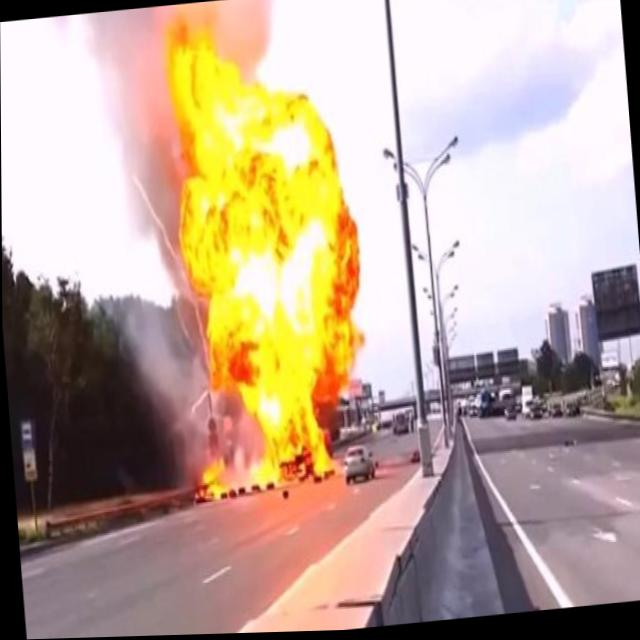fire: (146, 12, 379, 510)
